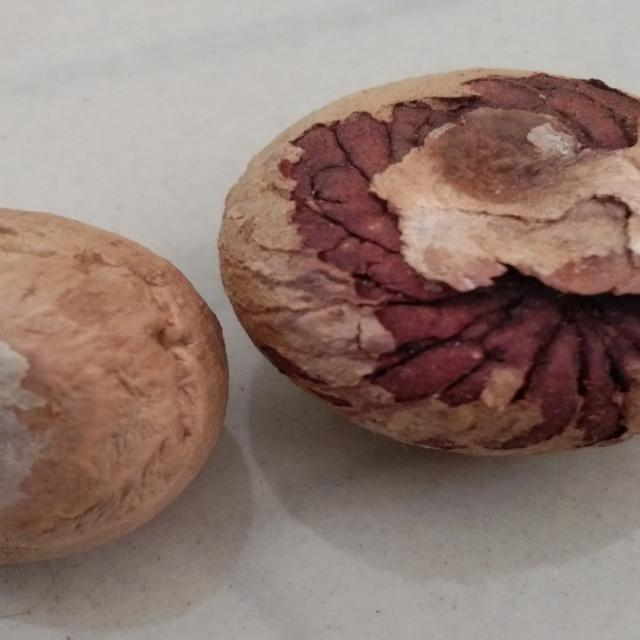good: (0, 201, 225, 558)
karigot: (227, 41, 640, 464)
